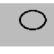no answer: (16, 9, 50, 32)
